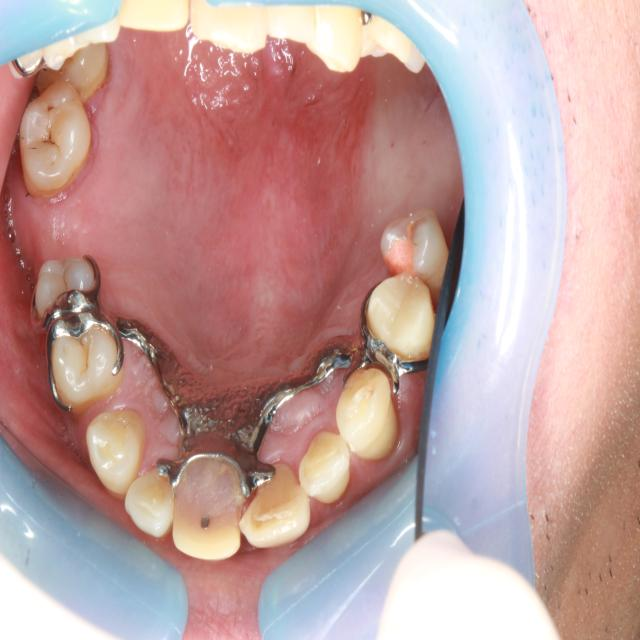tooth: (12, 79, 99, 204), (166, 447, 252, 570), (39, 307, 131, 415), (358, 262, 439, 373), (25, 241, 112, 330), (333, 360, 402, 468), (236, 457, 315, 551), (377, 204, 453, 294), (82, 405, 150, 501), (31, 38, 113, 105), (291, 427, 355, 508), (119, 463, 178, 540)
